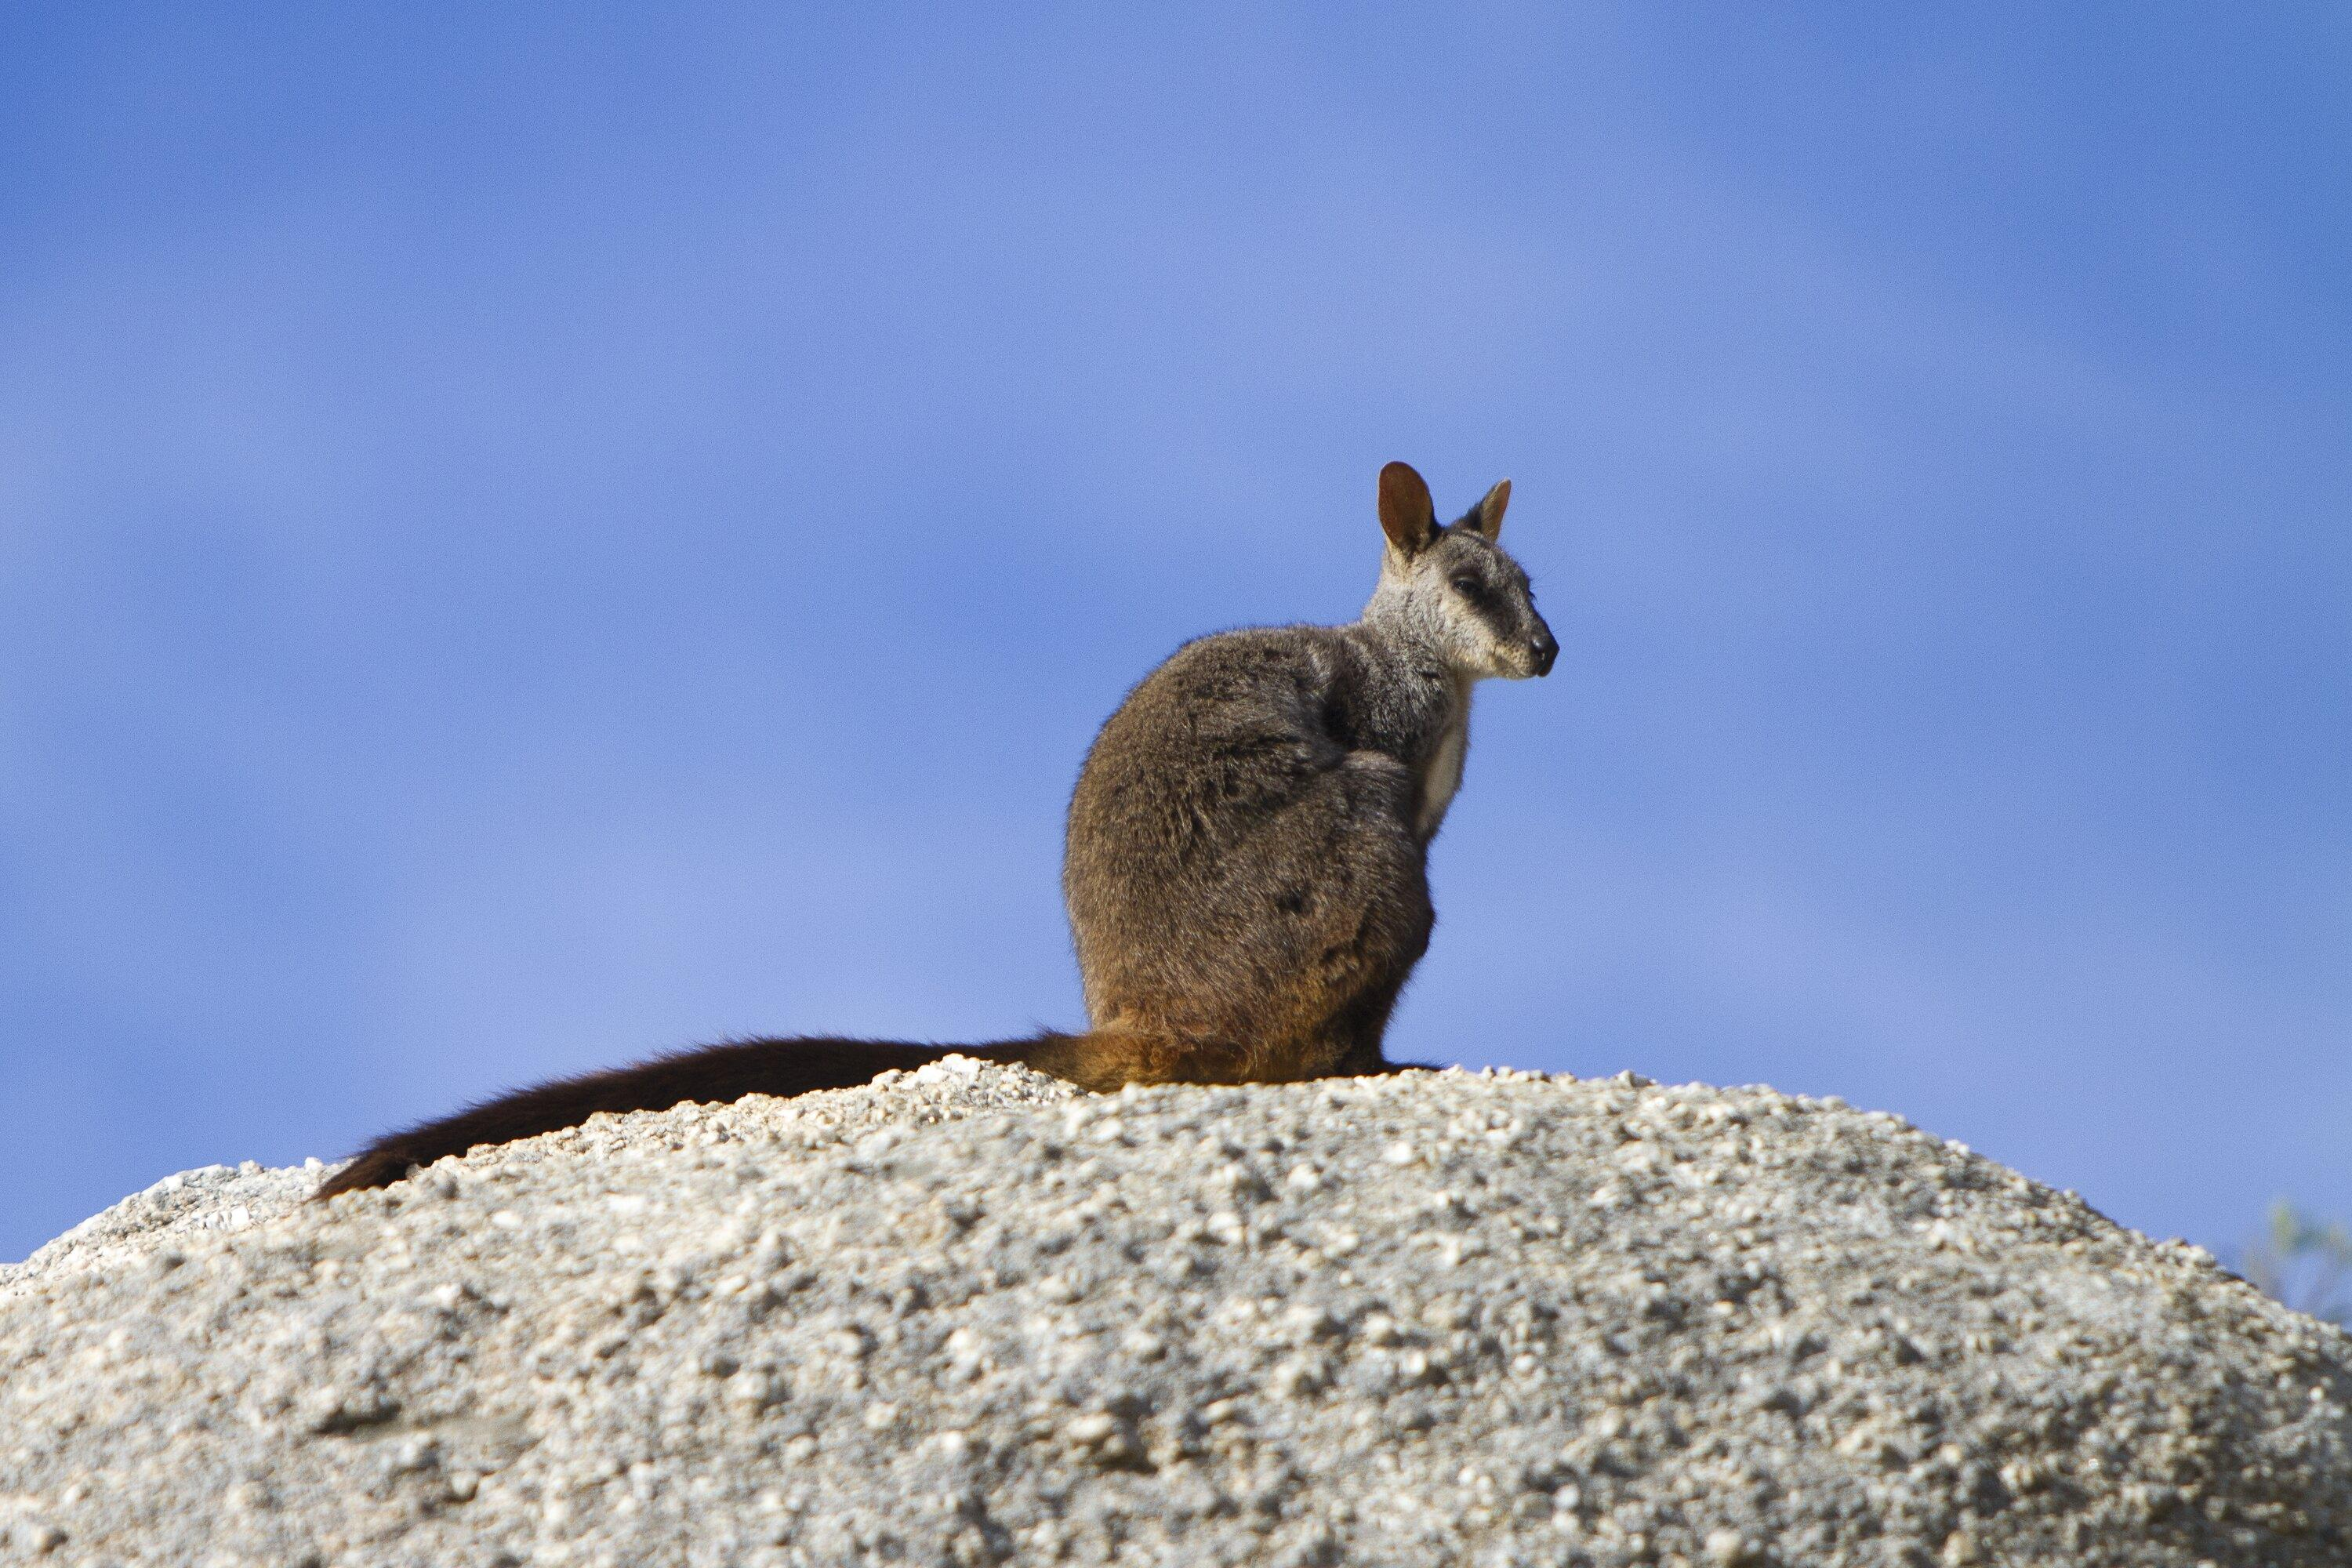Brush-tailed rock-wallaby: (292, 460, 1563, 1208)
